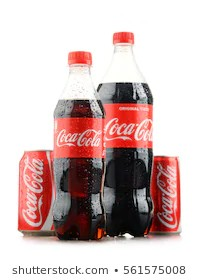coke-bottle-2l: (98, 29, 154, 241)
coke-bottle-700ml: (48, 49, 107, 243)
coke-can: (15, 148, 54, 237), (151, 155, 182, 236)
